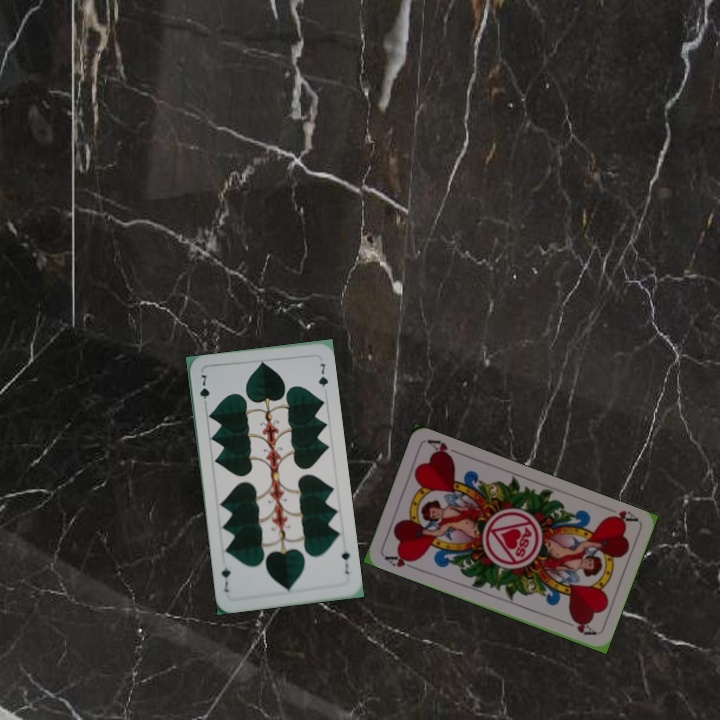G7: (195, 371, 212, 410), (337, 547, 352, 577)
HA: (380, 549, 420, 572), (603, 506, 640, 527)
